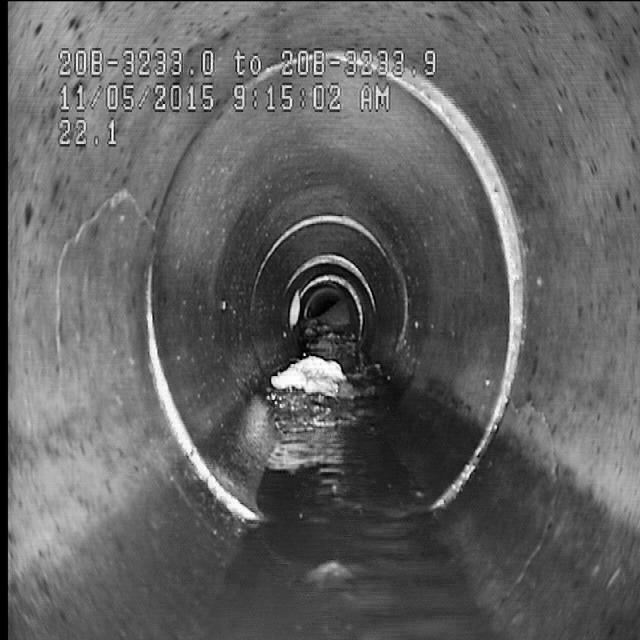Crack: (40, 170, 194, 350)
